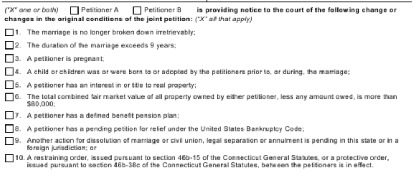checkbox: (69, 5, 80, 15), (131, 5, 142, 15), (4, 27, 14, 37), (4, 53, 14, 63), (4, 66, 14, 76), (4, 80, 14, 90), (4, 92, 14, 102), (4, 110, 14, 120), (4, 123, 14, 133), (4, 135, 14, 145), (4, 153, 14, 163), (4, 40, 14, 49)
